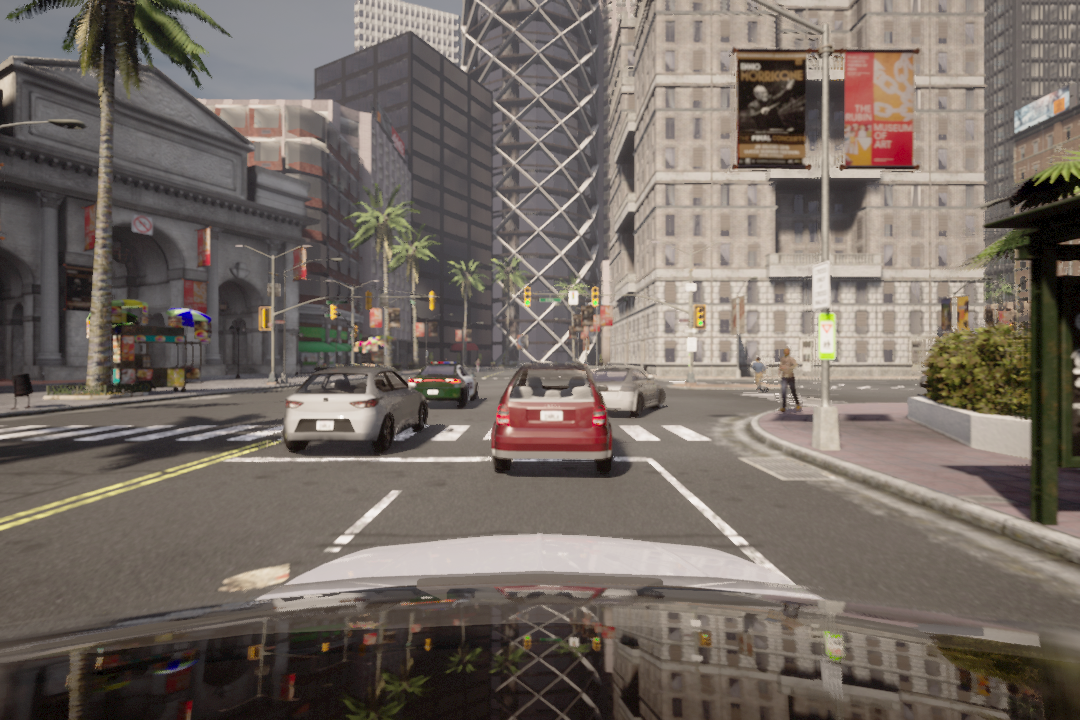TrafficLight: (694, 305, 708, 330), (523, 286, 531, 310), (591, 288, 600, 309)
TrafficSign: (133, 216, 152, 235)
walkside: (4, 421, 735, 451)
